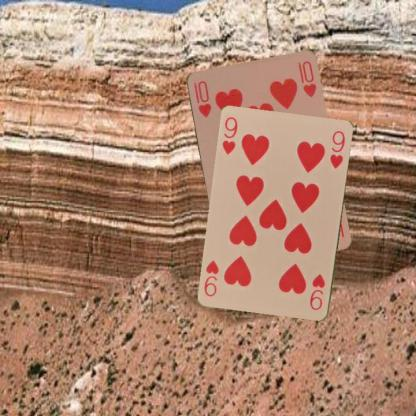10h: (190, 78, 212, 118)
9h: (220, 115, 239, 156), (308, 271, 326, 313)
